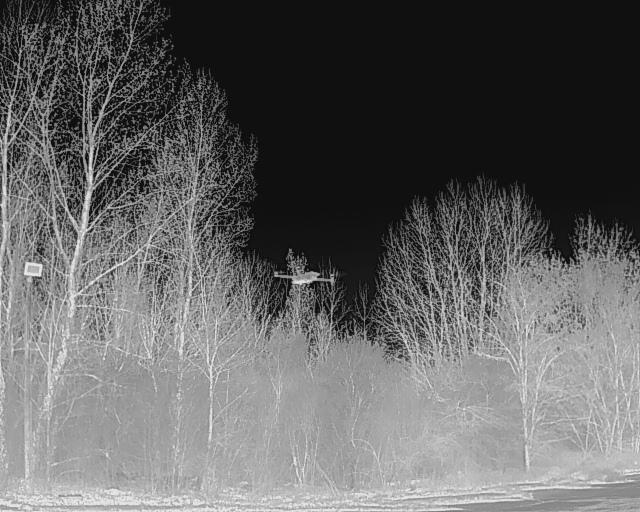drone: (270, 250, 336, 302)
